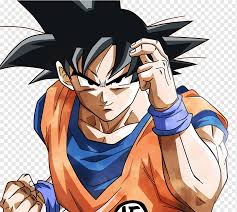Songoku: (55, 34, 143, 121)
